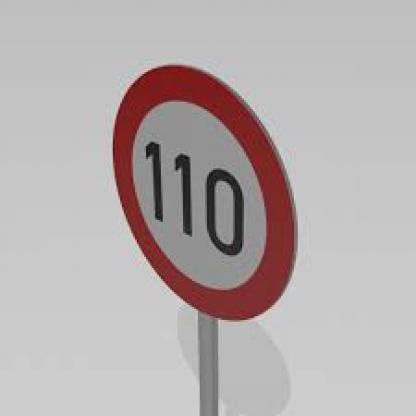Speed Limit 110: (113, 65, 290, 321)
